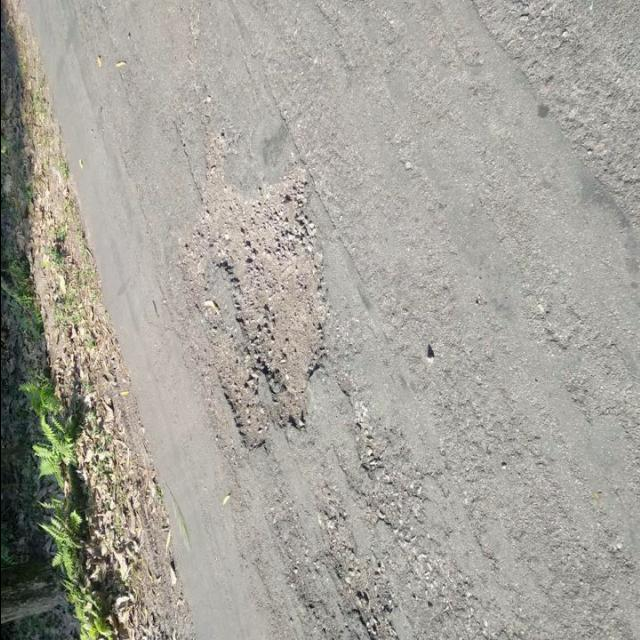pothole: (157, 163, 341, 464), (295, 522, 412, 640)
